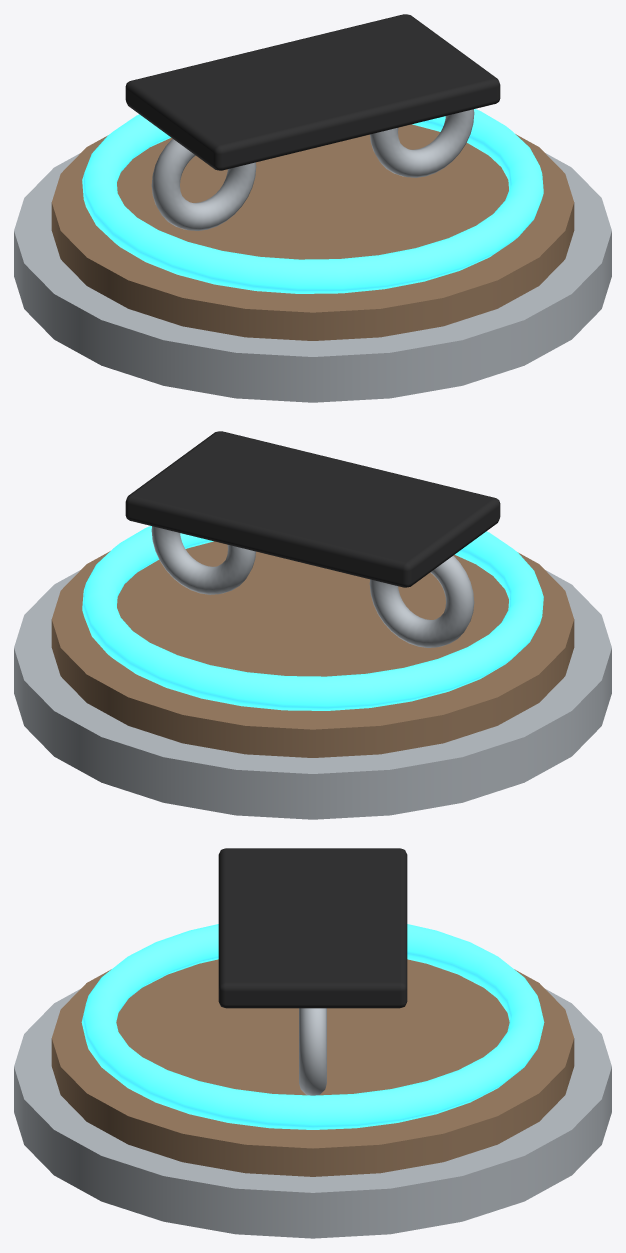
3 renders of one model, top to bottom at view 1: azimuth 30°, elevation 25°; view 2: azimuth 150°, elevation 25°; view 3: azimuth 270°, elevation 25°, orthographic.
Visible parts, largest first — view 1: bounce-pad; view 2: bounce-pad; view 3: bounce-pad.
Boxes of the visible parts, box(x1,y1,x2,y2) form: bounce-pad: box(14, 14, 611, 402); bounce-pad: box(14, 431, 611, 819); bounce-pad: box(14, 848, 611, 1238).
Bounding box in the file's own units: 1.9 × 0.69 × 1.9.
